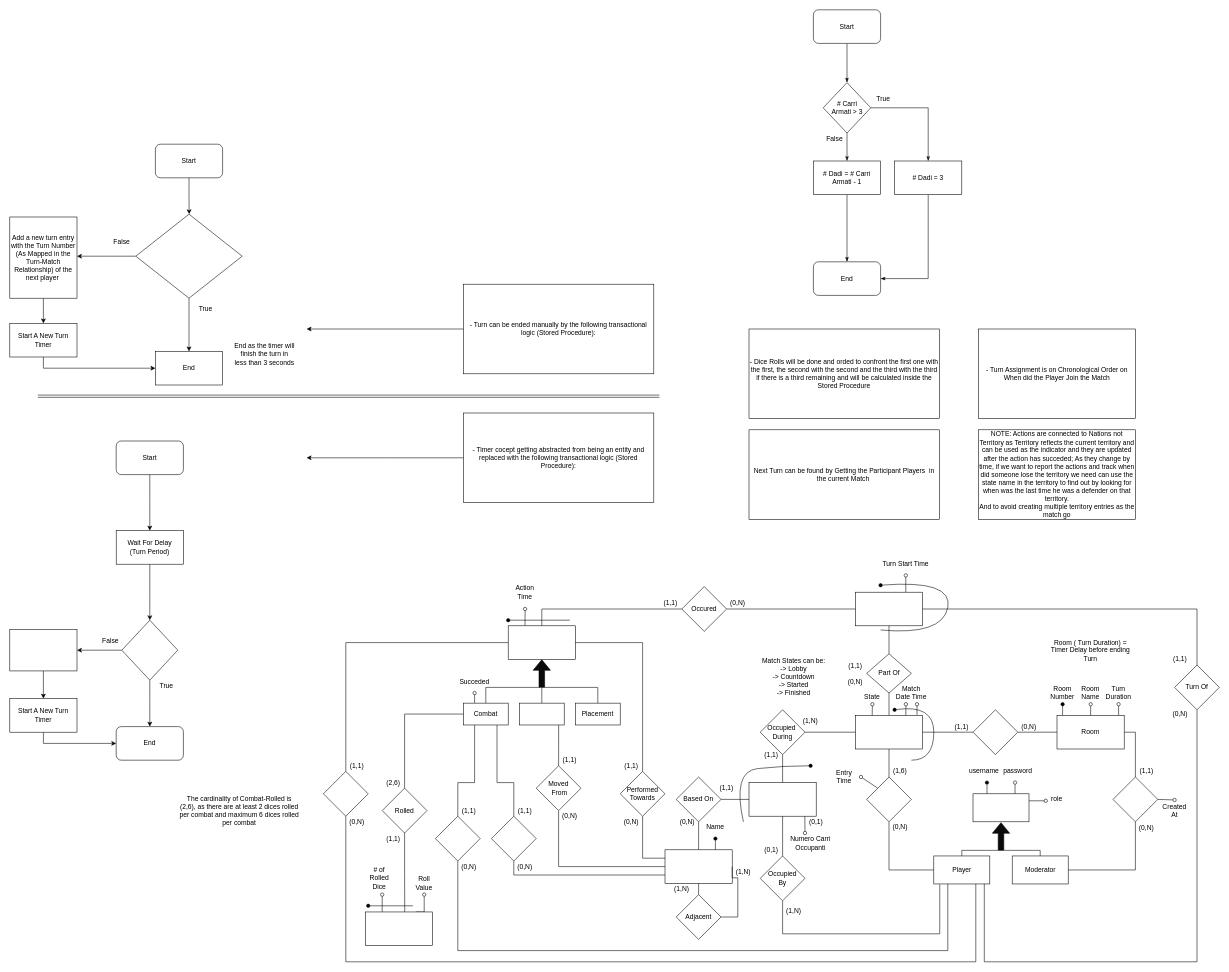
Some shapes in this 1229 by 972 pixel diagram are drawn without their labels. Here are the shapes that lost their labels. From the top down, the centre of each, then its label:
At [188,256]: "Is difference between start-time and timer delay (For the timer) is < 3".
At [889,609]: "Turn".
At [43,650]: "Create a new turn entry with the playerID of the next turn".
At [149,650]: "Check if the turn was passed".
At [541,642]: "Action".
At [541,714]: "Movement".
At [889,732]: "Match".
At [995,732]: "Hosted At".
At [345,793]: "Performed By".
At [782,799]: "Territory (Ocuppied Nation)".
At [888,799]: "Participate".
At [1000,807]: "User".
At [1135,799]: "Created".
At [457,838]: "Attack Against".
At [513,838]: "Attack From".
At [698,866]: "Nation".
At [399,928]: "Dice Roll".
